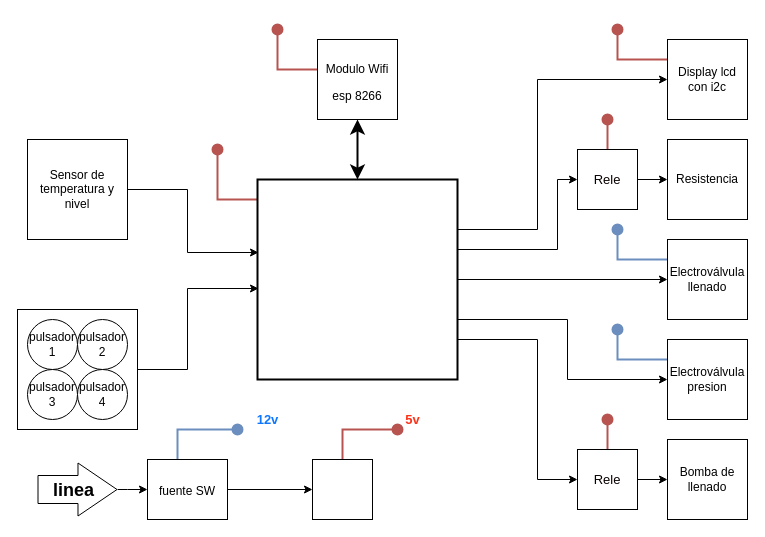
The diagram is 765 pixels wide and 537 high, and some of its shapes have lost their labels. Each missing label, with the centre of its shape:
"Atmega 328p" goes at point (357, 279).
"Reg 5v" goes at point (342, 489).
